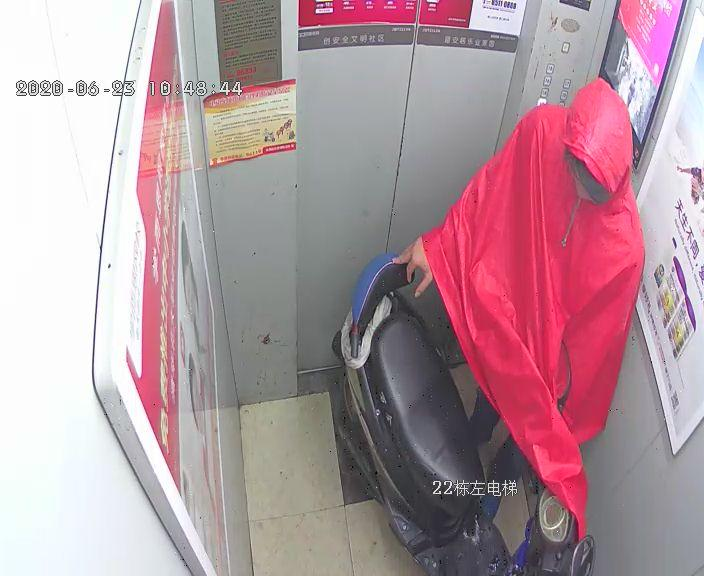Electric-bicycle: (348, 253, 593, 574)
